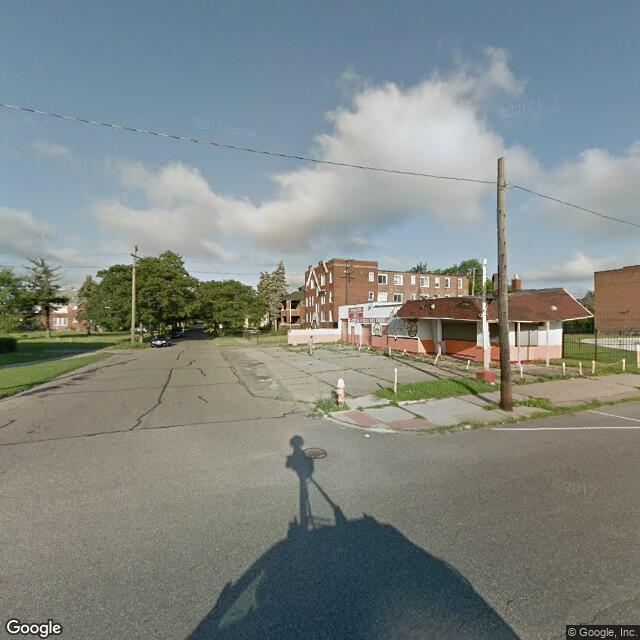litter: (458, 424, 471, 431), (566, 374, 577, 381), (359, 433, 374, 438), (487, 382, 498, 387)
